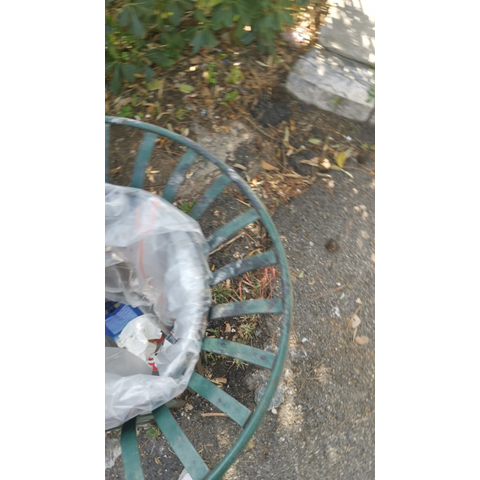poubelle: (106, 115, 291, 480)
